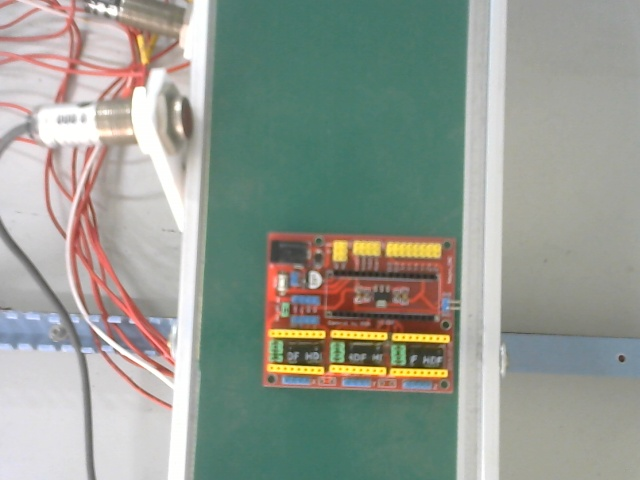IC: (366, 282, 398, 312)
capacitor: (344, 335, 388, 370), (407, 341, 449, 373), (281, 338, 326, 367), (301, 268, 326, 291)
connector: (327, 234, 447, 264), (268, 236, 310, 263)
